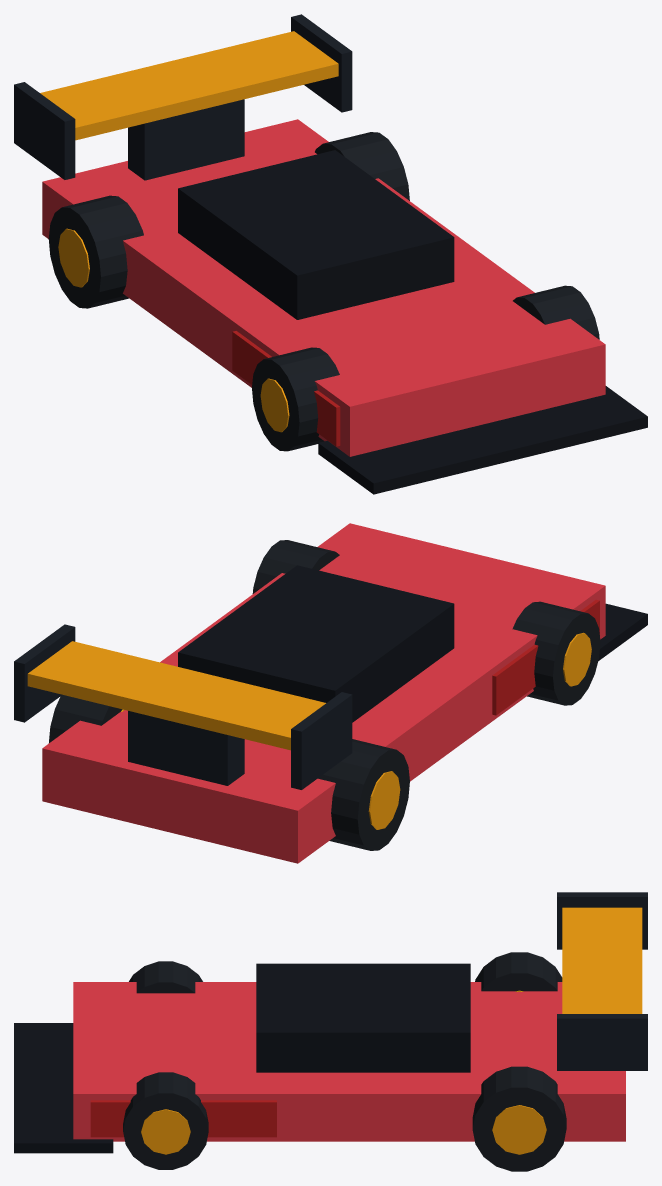
The model's file is sonic-wing.glb.
3 renders of one model, top to bottom at view 1: azimuth 30°, elevation 25°; view 2: azimuth 150°, elevation 25°; view 3: azimuth 270°, elevation 25°, orthographic. The views are drawn at different scales.
Parts seen in each view (by area): view 1: RaceCar; view 2: RaceCar; view 3: RaceCar.
Part boxes in pixels (x1,y1,x2,y2): RaceCar: (14,14,647,494); RaceCar: (14,523,647,863); RaceCar: (14,892,647,1171).
Size of the model in its own units: 2.34 by 1.19 by 4.59.
